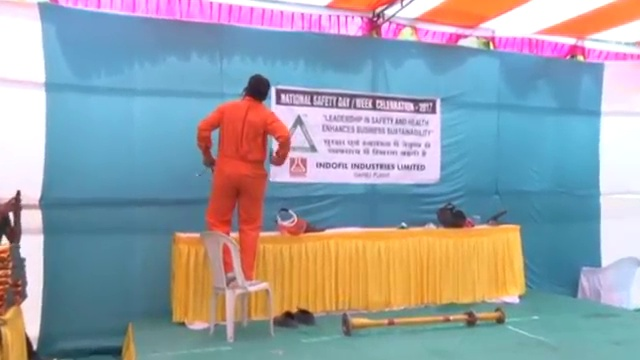helmet_off: (241, 74, 269, 102)
person: (200, 74, 284, 287)
